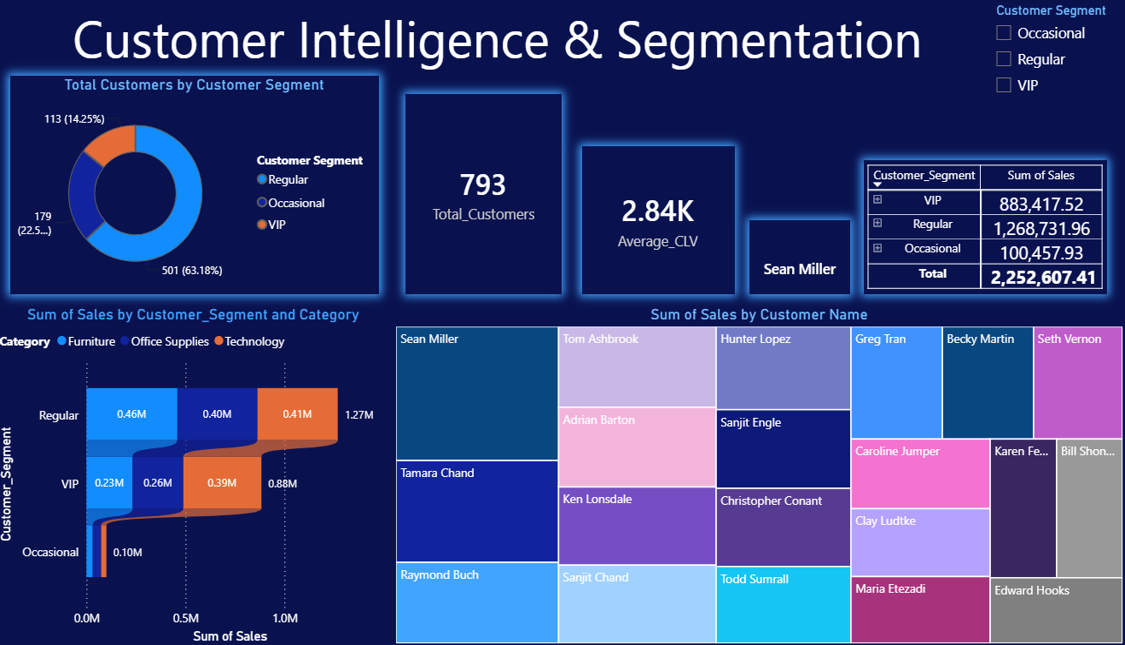

What the dashboard file says about the page in this screenshot:
{"tool":"powerbi","page":{"name":"Marketing & Customer Analytics","canvas":[1280,720],"ordinal":1},"visuals":[{"type":"cardVisual","fields":{"Data":["Cleaned_Data.Total_Customers"]},"box":[464.5,106.2,176.1,222],"z":0},{"type":"cardVisual","fields":{"Data":["Cleaned_Data.Average_CLV"]},"box":[663.5,164.1,172.5,164.1],"z":1000},{"type":"cardVisual","fields":{"Rows":["Cleaned_Data.Customer Name"]},"box":[853,246.1,114.6,82],"z":2000},{"type":"donutChart","title":"Total Customers by Customer Segment","fields":{"Category":["Cleaned_Data.Customer_Segment"],"Y":["Cleaned_Data.Total_Customers"]},"box":[16.9,85.7,417.4,242.5],"z":3000},{"type":"treemap","fields":{"Group":["Cleaned_Data.Customer Name"],"Values":["Sum(Cleaned_Data.Sales)"]},"box":[448.8,340,831.2,380],"z":4000},{"type":"slicer","fields":{"Values":["Cleaned_Data.Customer_Segment"]},"box":[1119.6,0,160.5,164.1],"z":5000},{"type":"barChart","fields":{"Category":["Cleaned_Data.Customer_Segment"],"Y":["Sum(Cleaned_Data.Sales)"],"Series":["Cleaned_Data.Category"]},"box":[0,340,448.8,380],"z":6000},{"type":"pivotTable","fields":{"Rows":["Cleaned_Data.Customer_Segment","Cleaned_Data.Sub-Category"],"Values":["Sum(Cleaned_Data.Sales)"]},"box":[982,179.8,275.1,148.4],"z":7000},{"type":"textbox","box":[31.4,0,1073.7,107.4],"z":7001}]}

Visuals, with their boxes in screenshot pixels (x1, y1, x2, y2), scaled from the page's 1280x720 canvas onto the 1125x645 screenshot:
cardVisual - Cleaned_Data.Total_Customers: 408/95/563/294
cardVisual - Cleaned_Data.Average_CLV: 583/147/735/294
cardVisual - Cleaned_Data.Customer Name: 750/220/850/294
"Total Customers by Customer Segment" donutChart: 15/77/382/294
treemap - Cleaned_Data.Customer Name x Sum(Cleaned_Data.Sales): 394/305/1124/644
slicer - Cleaned_Data.Customer_Segment: 984/0/1124/147
barChart - Cleaned_Data.Customer_Segment x Sum(Cleaned_Data.Sales): 0/305/394/644
pivotTable - Cleaned_Data.Customer_Segment x Cleaned_Data.Sub-Category: 863/161/1105/294
textbox: 28/0/971/96
